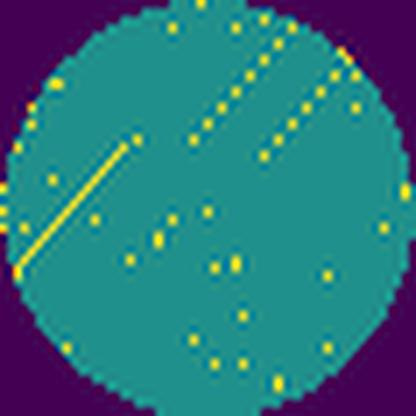Scratch: (13, 139, 133, 284), (185, 34, 289, 151), (257, 64, 344, 168)
